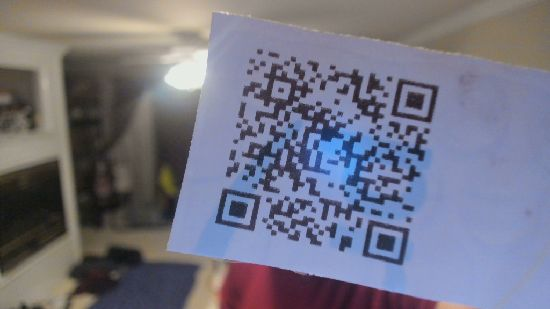QR_CODE: (209, 33, 446, 275)
